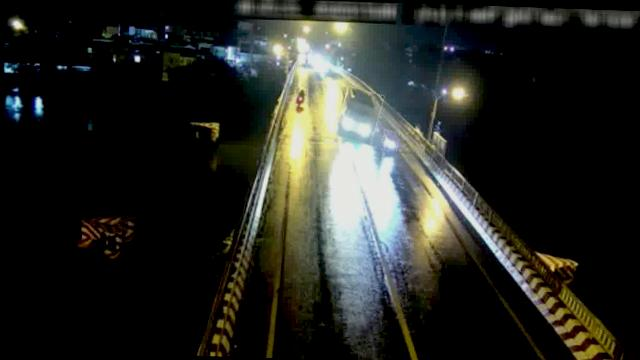Bike: (382, 131, 399, 152), (294, 87, 308, 108)
Truck: (337, 88, 382, 144)
